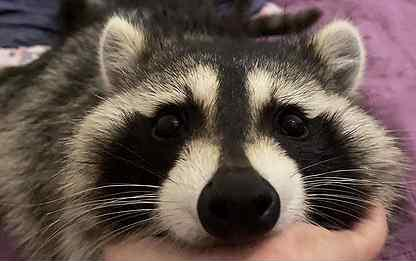raccoon: (0, 7, 413, 261)
